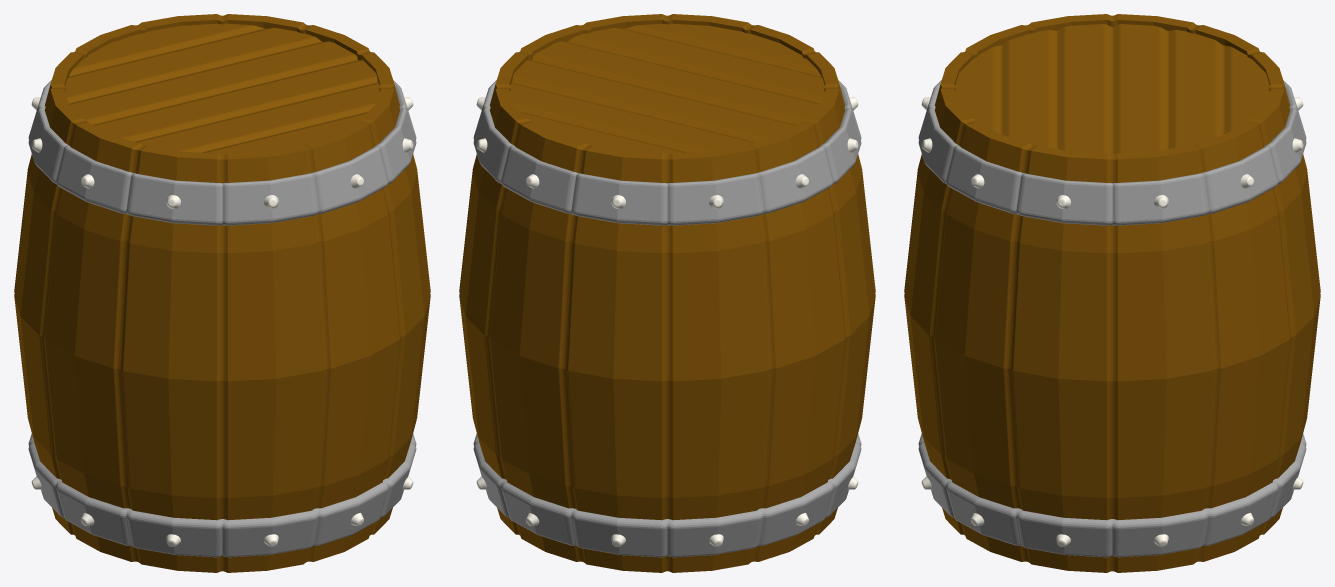
File: BARREL.fbx
The picture shows the model from 3 angles, left to right: view 1: azimuth 30°, elevation 25°; view 2: azimuth 150°, elevation 25°; view 3: azimuth 270°, elevation 25°; orthographic projection.
Visible parts, largest first — view 1: barrrel; view 2: barrrel; view 3: barrrel.
Part boxes in pixels (x1,y1,x2,y2): barrrel: (14,14,430,572); barrrel: (459,14,875,572); barrrel: (904,14,1320,572).
Size of the model in its own units: 45.75 by 50.14 by 45.75.
